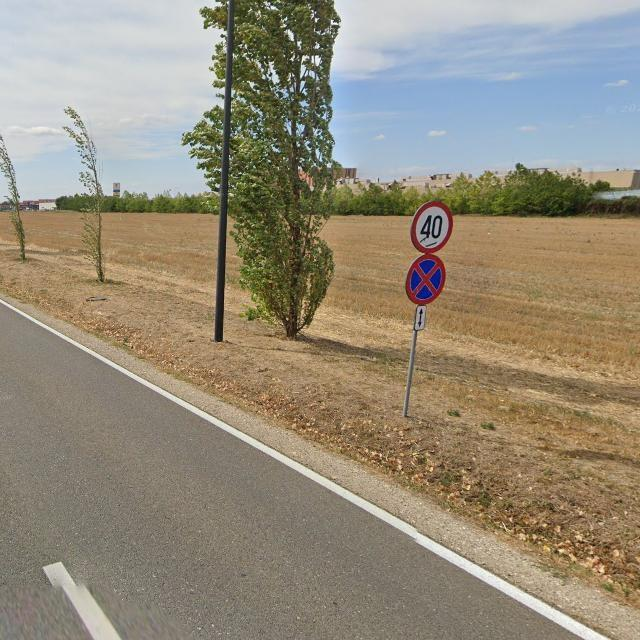forb_speed_over_40: (411, 201, 454, 254)
forb_waiting: (405, 254, 446, 304)
